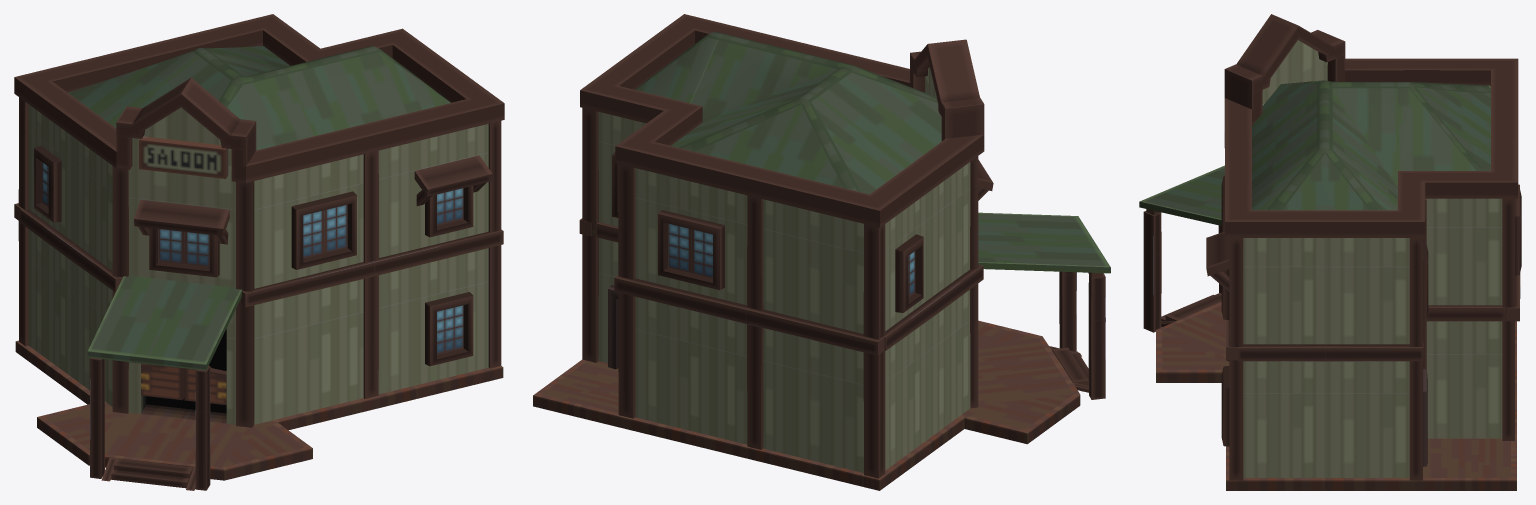
Rendered from house_v2_008.fbx.
3 views of the same model, side by side, from view 1: azimuth 30°, elevation 25°; view 2: azimuth 150°, elevation 25°; view 3: azimuth 270°, elevation 25° (orthographic). The views are drawn at different scales.
Visible parts, largest first — view 1: house_v2_008; view 2: house_v2_008; view 3: house_v2_008.
Part boxes in pixels (bbox=[...]): house_v2_008: bbox=[14, 14, 504, 490]; house_v2_008: bbox=[533, 14, 1110, 490]; house_v2_008: bbox=[1139, 14, 1521, 490].
Size of the model in its own units: 1020 by 792 by 821.
